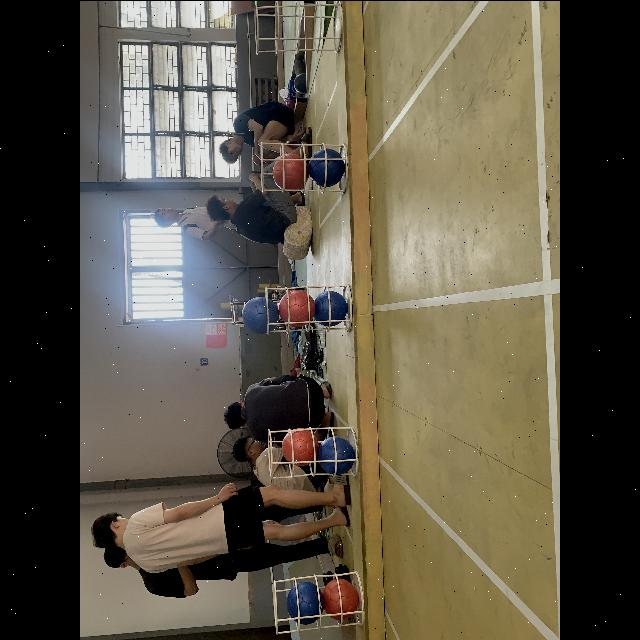B: (286, 580, 324, 624), (308, 148, 346, 186), (240, 296, 280, 332), (313, 292, 349, 326), (320, 436, 354, 470)
R: (320, 576, 360, 620), (282, 424, 320, 464), (272, 153, 308, 189), (280, 290, 314, 326)
